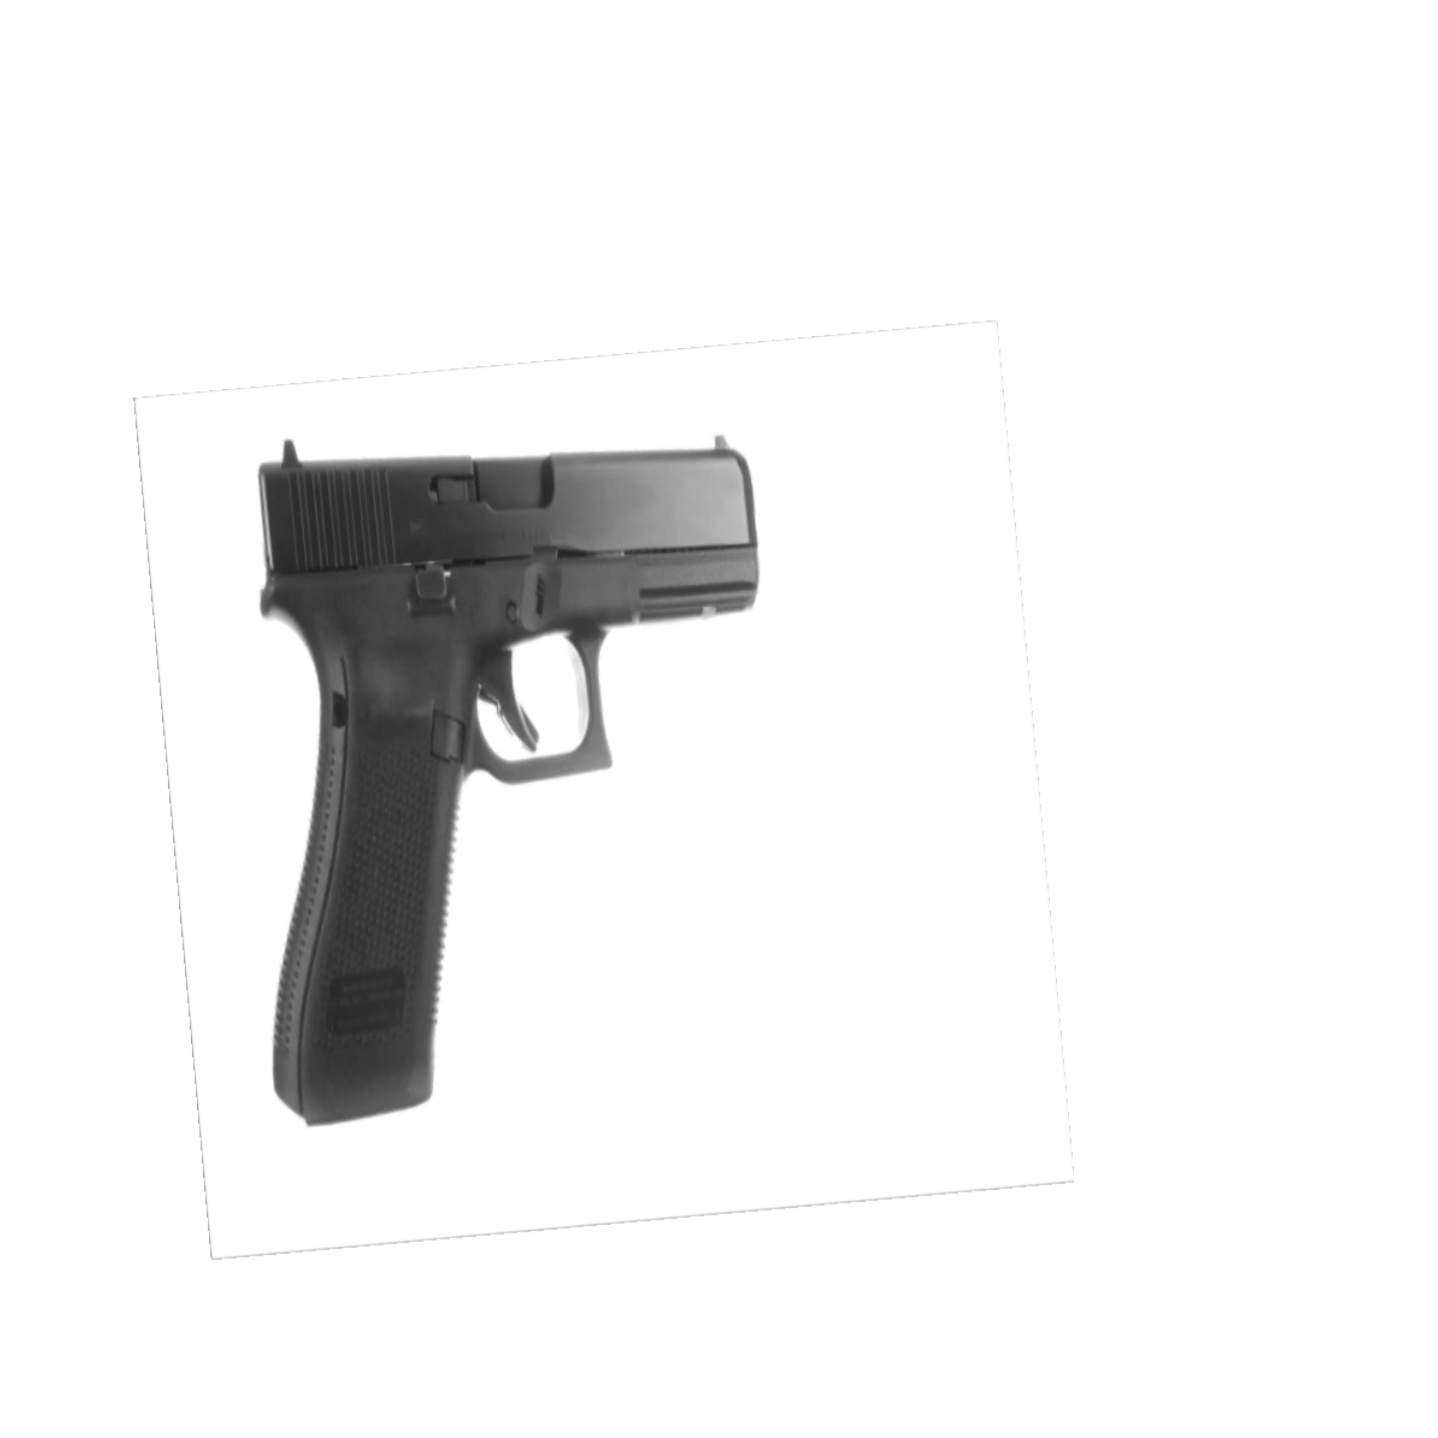gun: (245, 421, 769, 1132)
